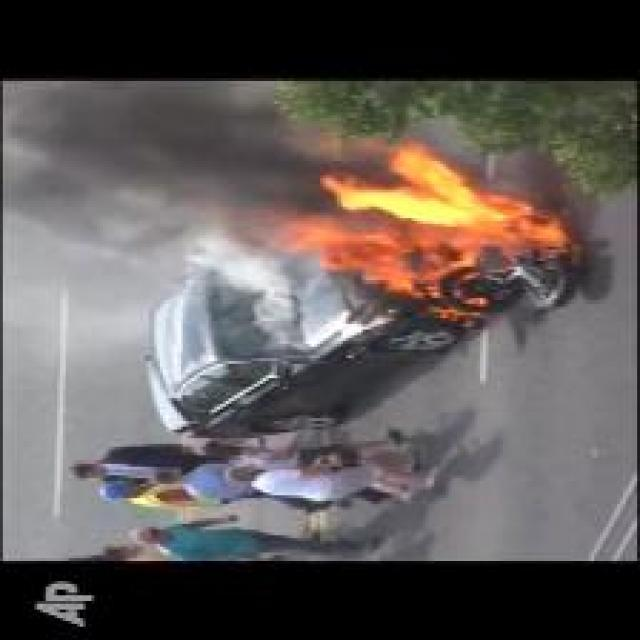Fire: (246, 142, 574, 296)
